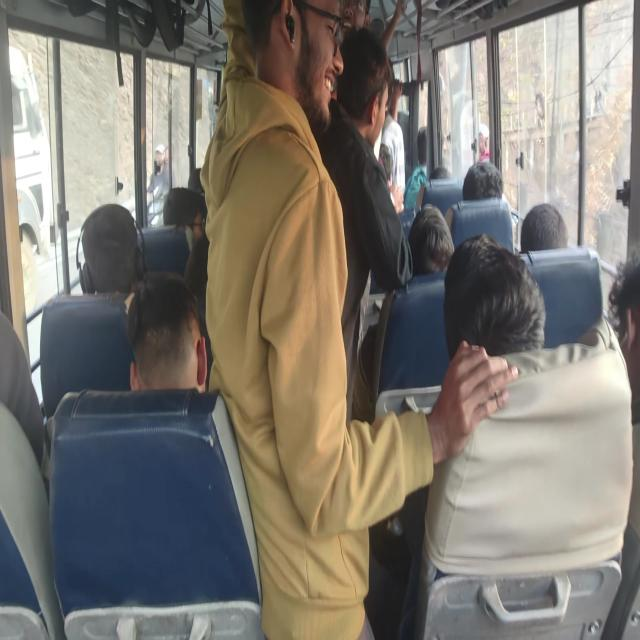person: (201, 0, 520, 638), (316, 26, 413, 423), (443, 232, 546, 360), (126, 270, 208, 392), (76, 202, 146, 310), (608, 252, 640, 422), (376, 77, 406, 212), (408, 203, 454, 276), (520, 202, 568, 252), (403, 125, 428, 210), (146, 143, 171, 226), (462, 159, 503, 200)
